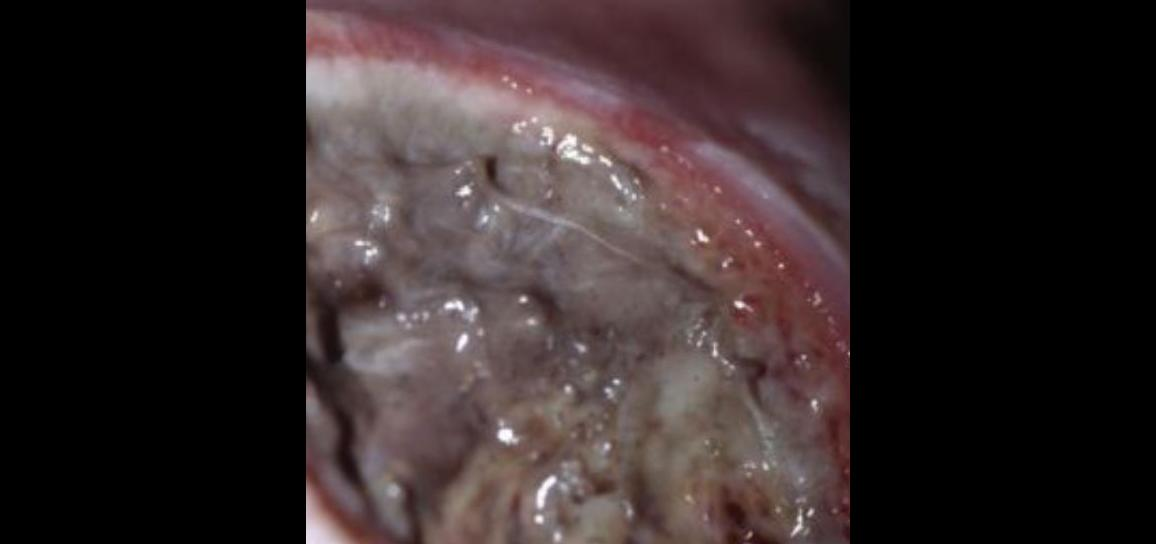Stage3: (327, 0, 834, 544)
